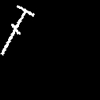double_crochet: (1, 6, 33, 54)
